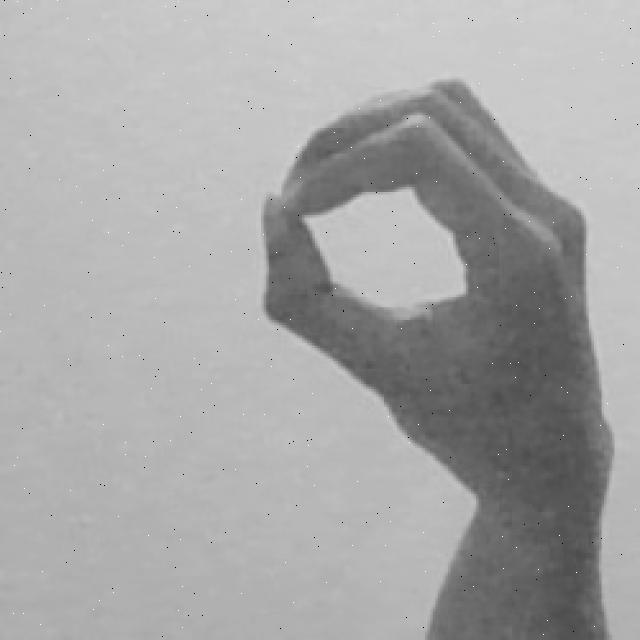O: (253, 69, 620, 640)
